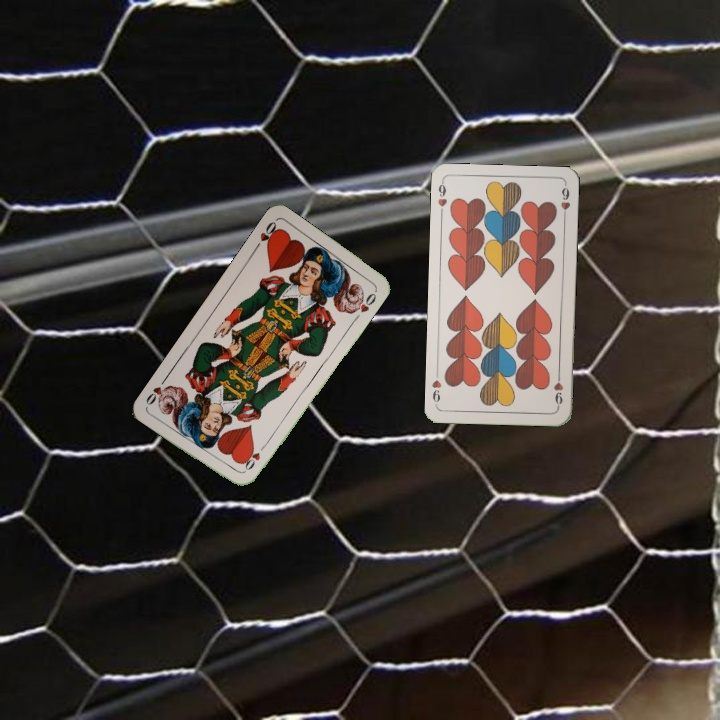H9: (433, 178, 449, 218), (550, 370, 565, 410)
HO: (250, 217, 281, 252), (240, 440, 269, 475)
